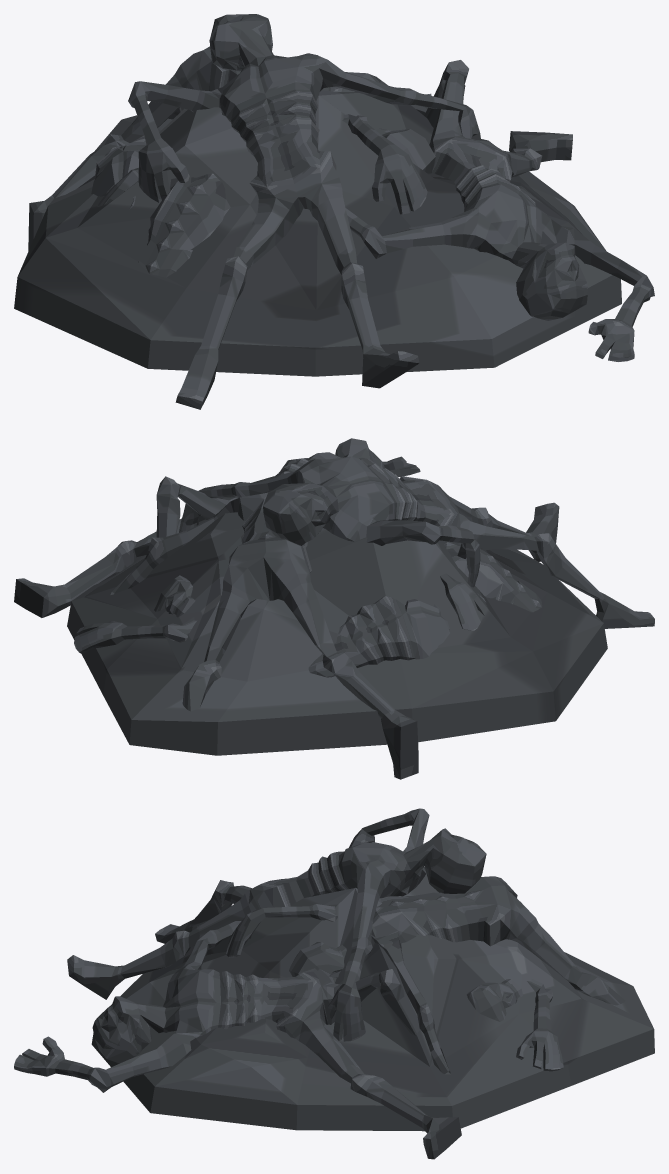
File: crypt_body_pile.gltf
3 renders of one model, top to bottom at view 1: azimuth 30°, elevation 25°; view 2: azimuth 150°, elevation 25°; view 3: azimuth 270°, elevation 25°, orthographic. The views are drawn at different scales.
Parts seen in each view (by area): view 1: crypt_body_pile; view 2: crypt_body_pile; view 3: crypt_body_pile.
Boxes of the visible parts, left/top/right/bottom form: crypt_body_pile: left=14, top=14, right=654, bottom=409; crypt_body_pile: left=14, top=438, right=654, bottom=779; crypt_body_pile: left=14, top=808, right=654, bottom=1159.
Bounding box in the file's own units: 2.35 × 0.9511 × 2.61.
1 material, 1 textured.
